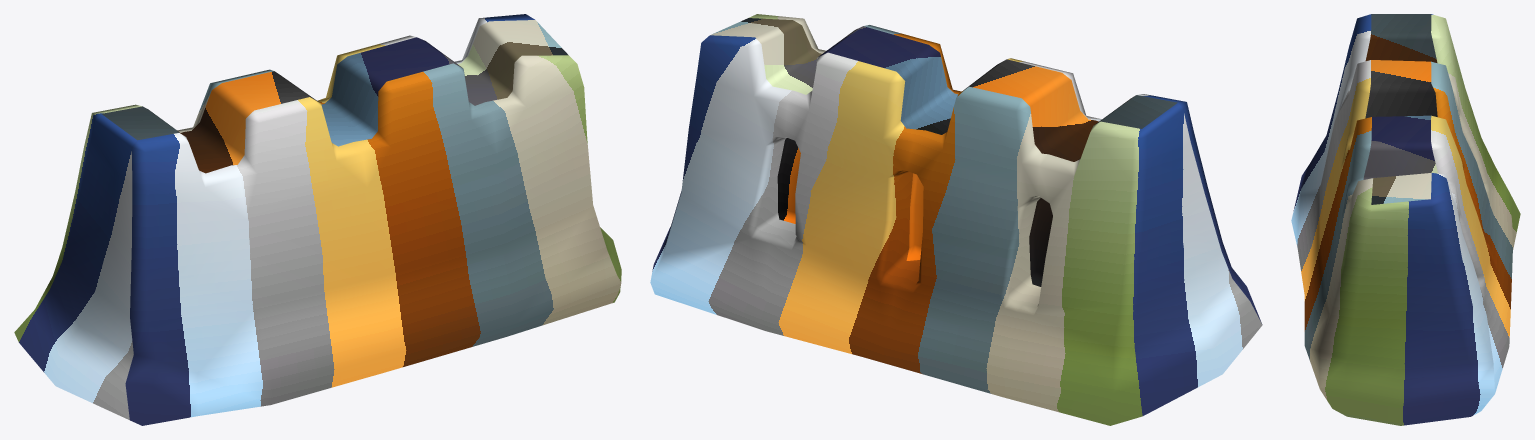
The model's file is Prop_SunlightSandcastleD.glb.
3 renders of one model, left to right at view 1: azimuth 30°, elevation 25°; view 2: azimuth 150°, elevation 25°; view 3: azimuth 270°, elevation 25°, orthographic. The views are drawn at different scales.
Parts seen in each view (by area): view 1: Prop_SunlightSandcastleD; view 2: Prop_SunlightSandcastleD; view 3: Prop_SunlightSandcastleD.
Part boxes in pixels (x1=…): Prop_SunlightSandcastleD: x1=14, y1=14, x2=621, y2=425; Prop_SunlightSandcastleD: x1=650, y1=14, x2=1262, y2=425; Prop_SunlightSandcastleD: x1=1291, y1=14, x2=1520, y2=425.
Bounding box in the file's own units: 4.26 × 1.95 × 1.84.
Materials: 1 (1 with a texture image).
